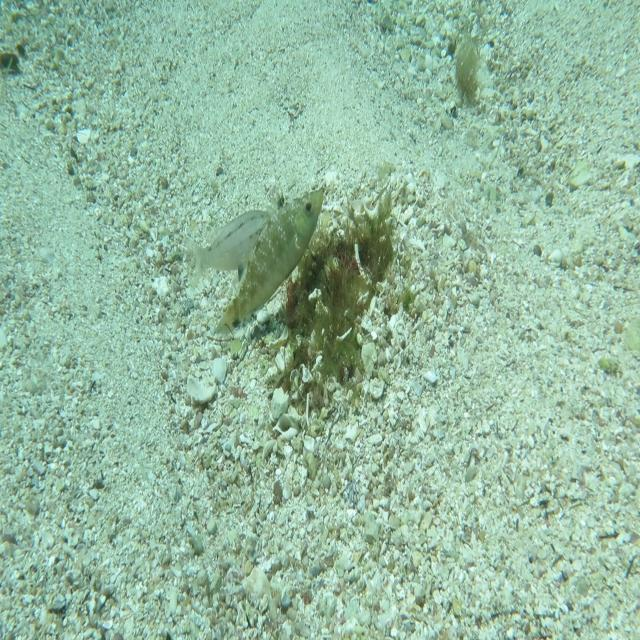FAN: (213, 184, 324, 340)
core_nest: (336, 224, 389, 272)
female: (182, 206, 271, 292)
nest: (278, 174, 416, 415)
